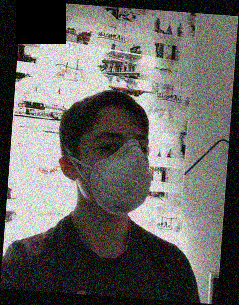with_mask: (86, 121, 152, 215)
